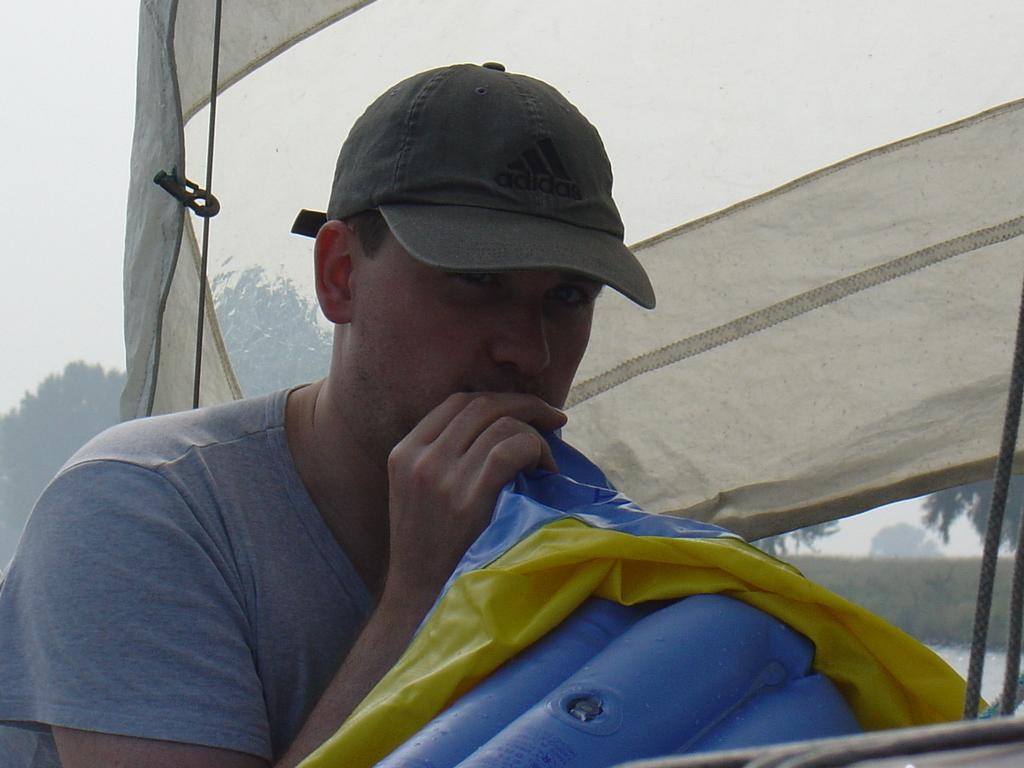Hat: (290, 59, 660, 313)
